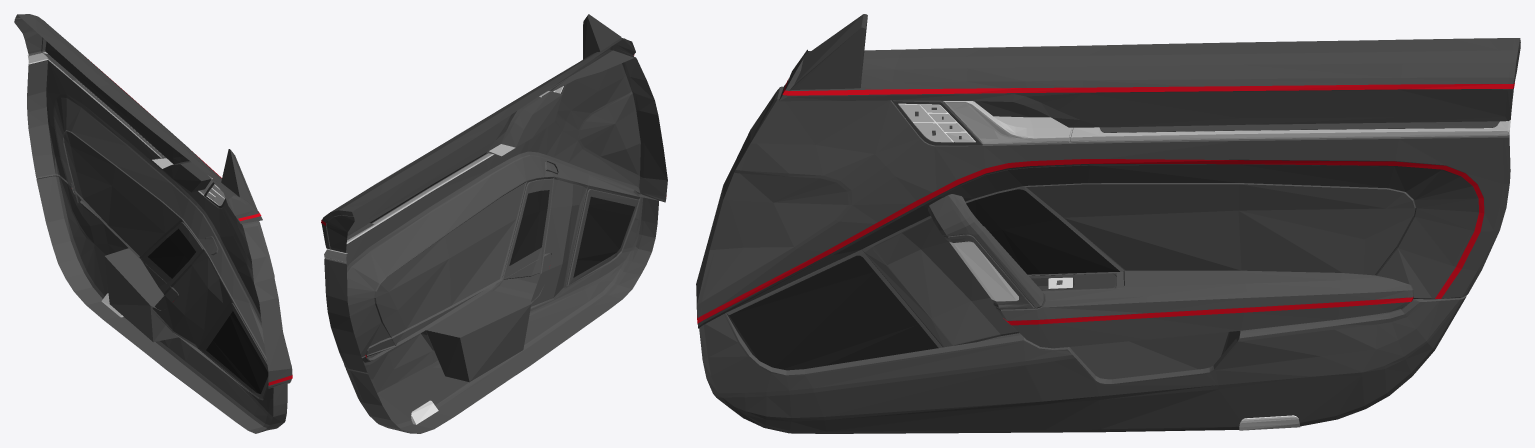
Rendered from doorpanel_R_antichrome.glb.
3 views of the same model, side by side, from view 1: azimuth 30°, elevation 25°; view 2: azimuth 150°, elevation 25°; view 3: azimuth 270°, elevation 25° (orthographic). The views are drawn at different scales.
Visible parts, largest first — view 1: TwiXeR_992_doorpanel_R_antichrome_TwiXeR_992_seat_leather.00, TwiXeR_992_doorpanel_R_antichrome_TwiXeR_992_upper_leather.0, TwiXeR_992_doorpanel_R_antichrome_TwiXeR_992_speakers.002_0, TwiXeR_992_doorpanel_R_antichrome_TwiXeR_992_ID05_leather_co, TwiXeR_992_doorpanel_R_antichrome_TwiXeR_992_plastic_mgl_060; view 2: TwiXeR_992_doorpanel_R_antichrome_TwiXeR_992_seat_leather.00, TwiXeR_992_doorpanel_R_antichrome_TwiXeR_992_upper_leather.0, TwiXeR_992_doorpanel_R_antichrome_TwiXeR_992_speakers.002_0, TwiXeR_992_doorpanel_R_antichrome_TwiXeR_992_ID05_leather_co, TwiXeR_992_doorpanel_R_antichrome_TwiXeR_992_plastic_mgl_060, TwiXeR_992_doorpanel_R_antichrome_TwiXeR_992_ID08_fabric_002; view 3: TwiXeR_992_doorpanel_R_antichrome_TwiXeR_992_seat_leather.00, TwiXeR_992_doorpanel_R_antichrome_TwiXeR_992_upper_leather.0, TwiXeR_992_doorpanel_R_antichrome_TwiXeR_992_speakers.002_0, TwiXeR_992_doorpanel_R_antichrome_TwiXeR_992_ID03_stitch_001, TwiXeR_992_doorpanel_R_antichrome_TwiXeR_992_ID05_leather_co (×2), TwiXeR_992_doorpanel_R_antichrome_TwiXeR_992_plastic_mgl_060, TwiXeR_992_doorpanel_R_antichrome_TwiXeR_992_ID09_rubbertrim, TwiXeR_992_doorpanel_R_antichrome_TwiXeR_992_ID04_plastic_te.
Part boxes in pixels (x1,y1,x2,y2): TwiXeR_992_doorpanel_R_antichrome_TwiXeR_992_seat_leather.00: (27, 60, 292, 433); TwiXeR_992_doorpanel_R_antichrome_TwiXeR_992_upper_leather.0: (14, 14, 262, 223); TwiXeR_992_doorpanel_R_antichrome_TwiXeR_992_speakers.002_0: (148, 228, 268, 393); TwiXeR_992_doorpanel_R_antichrome_TwiXeR_992_ID05_leather_co: (27, 52, 212, 195); TwiXeR_992_doorpanel_R_antichrome_TwiXeR_992_plastic_mgl_060: (221, 149, 257, 210); TwiXeR_992_doorpanel_R_antichrome_TwiXeR_992_seat_leather.00: (324, 57, 667, 433); TwiXeR_992_doorpanel_R_antichrome_TwiXeR_992_upper_leather.0: (321, 38, 635, 253); TwiXeR_992_doorpanel_R_antichrome_TwiXeR_992_speakers.002_0: (509, 190, 634, 277); TwiXeR_992_doorpanel_R_antichrome_TwiXeR_992_ID05_leather_co: (324, 91, 551, 262); TwiXeR_992_doorpanel_R_antichrome_TwiXeR_992_plastic_mgl_060: (583, 14, 621, 59); TwiXeR_992_doorpanel_R_antichrome_TwiXeR_992_ID08_fabric_002: (411, 400, 438, 424); TwiXeR_992_doorpanel_R_antichrome_TwiXeR_992_seat_leather.00: (696, 86, 1510, 433); TwiXeR_992_doorpanel_R_antichrome_TwiXeR_992_upper_leather.0: (779, 38, 1520, 132); TwiXeR_992_doorpanel_R_antichrome_TwiXeR_992_speakers.002_0: (729, 189, 1119, 370); TwiXeR_992_doorpanel_R_antichrome_TwiXeR_992_ID03_stitch_001: (697, 78, 1514, 325); TwiXeR_992_doorpanel_R_antichrome_TwiXeR_992_ID05_leather_co (×2): (943, 101, 1510, 301); TwiXeR_992_doorpanel_R_antichrome_TwiXeR_992_plastic_mgl_060: (789, 14, 867, 90); TwiXeR_992_doorpanel_R_antichrome_TwiXeR_992_ID09_rubbertrim: (898, 103, 1072, 288); TwiXeR_992_doorpanel_R_antichrome_TwiXeR_992_ID04_plastic_te: (892, 100, 1116, 290).
Bounding box in the file's own units: 0.1105 × 0.5778 × 1.05.
